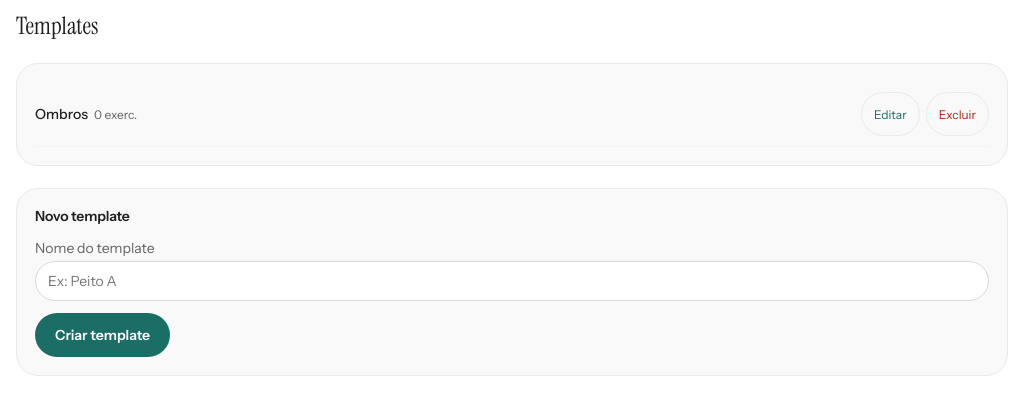
Test: Templates editor › delete failure › shows an error alert and keeps the item when deleteTemplate rejects
The image size is (1024, 416).
Expected: the text "Ombros" is shown, [35, 105, 88, 123]
Click the button with aria-label "excluir ombros".
click(957, 114)  # box [926, 92, 989, 136]
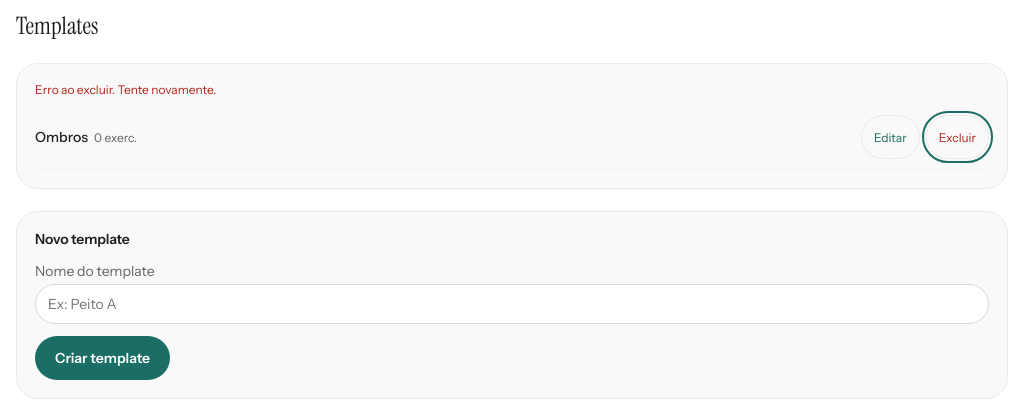
Expected: the text "Ombros" is shown, [35, 128, 88, 146]
Expected: the message "Erro ao excluir. Tente novamente." is shown, [35, 82, 216, 97]
